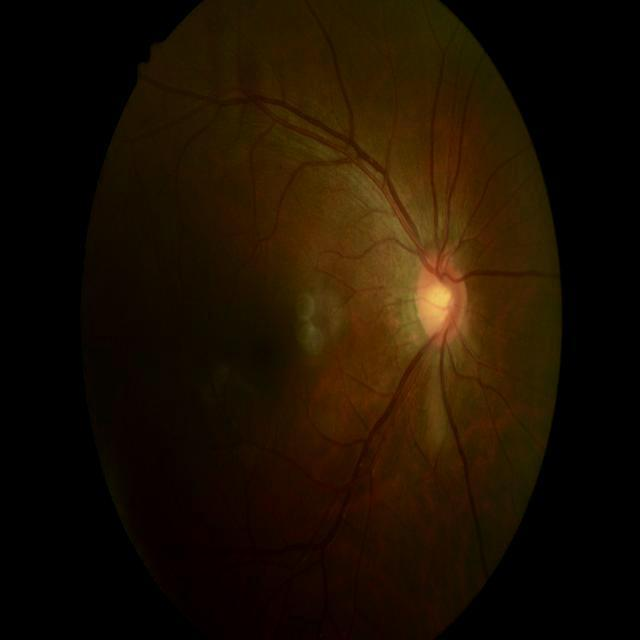cup: (422, 274, 454, 331)
disk: (416, 253, 468, 348)
